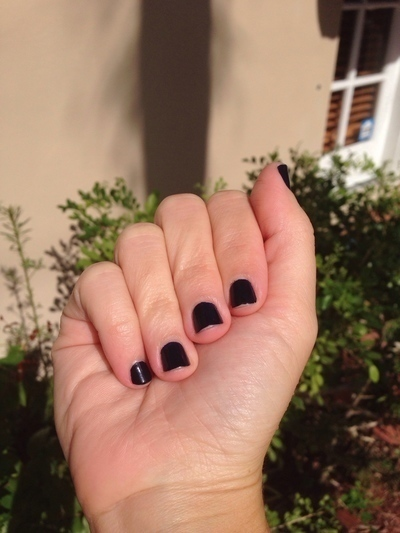closedhandfront: (22, 168, 336, 500)
